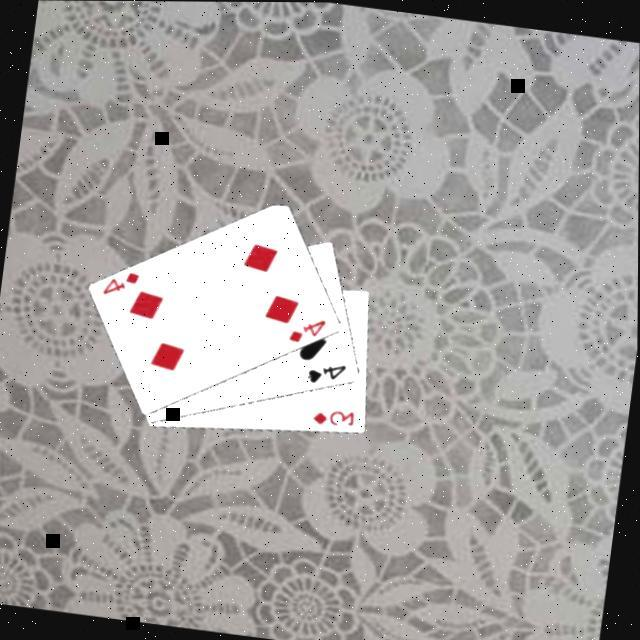3D: (307, 403, 356, 432)
4D: (96, 265, 142, 302), (283, 312, 327, 349)
4S: (301, 357, 347, 390)
